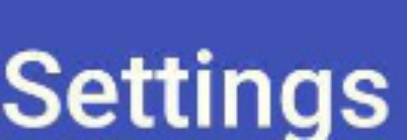TextView: (1, 1, 406, 139)
